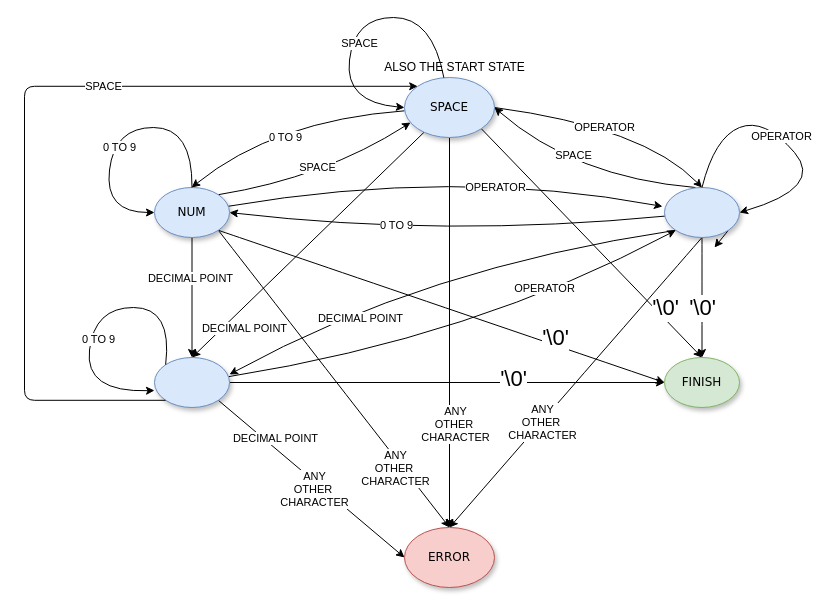
Some shapes in this 830 by 612 pixel diagram are drawn without their labels. The shapes that lost their labels are listed below. From the top down, each one's centre as x and y in pixels, then its label:
(703,213): OP
(193,383): DECIMAL
